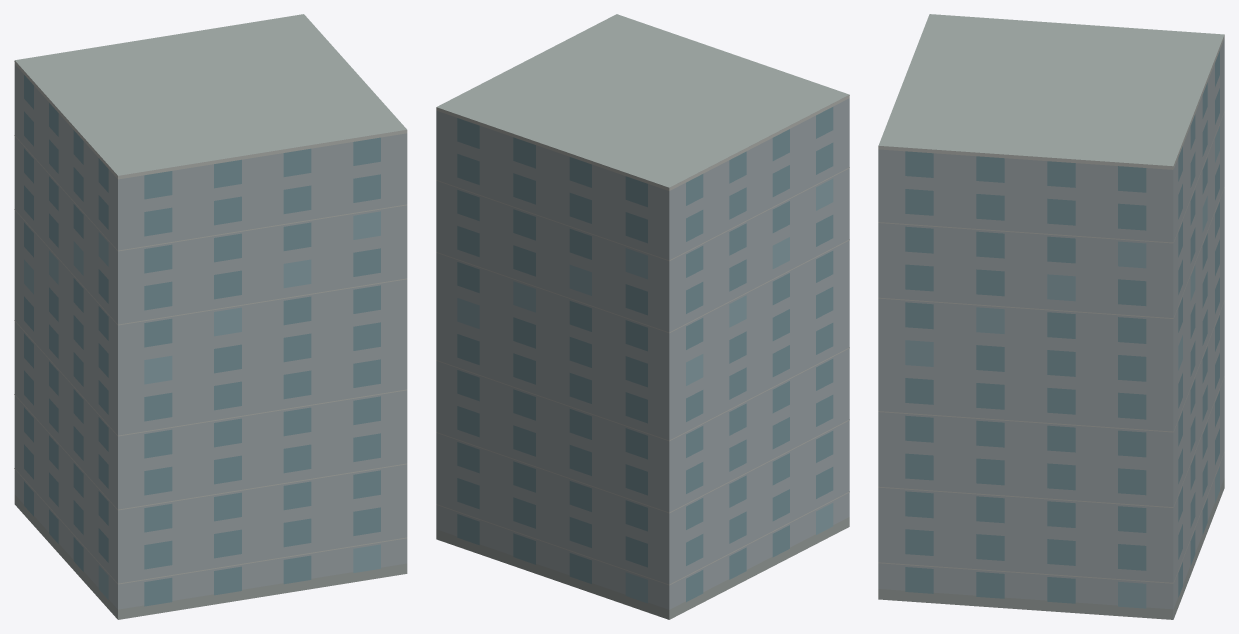
The model's file is residential-c54c0e22-a29d-4855-98bc-18e07170635c.glb.
The picture shows the model from 3 angles, left to right: view 1: azimuth 30°, elevation 25°; view 2: azimuth 150°, elevation 25°; view 3: azimuth 270°, elevation 25°; orthographic projection. The views are drawn at different scales.
Parts seen in each view (by area): view 1: residential-c54c0e22-a29d-4855-98bc-18e07170635c.tmp; view 2: residential-c54c0e22-a29d-4855-98bc-18e07170635c.tmp; view 3: residential-c54c0e22-a29d-4855-98bc-18e07170635c.tmp.
Boxes of the visible parts, bbox=[...] form: residential-c54c0e22-a29d-4855-98bc-18e07170635c.tmp: bbox=[14, 14, 407, 619]; residential-c54c0e22-a29d-4855-98bc-18e07170635c.tmp: bbox=[436, 14, 849, 619]; residential-c54c0e22-a29d-4855-98bc-18e07170635c.tmp: bbox=[878, 14, 1224, 619].
Bounding box in the file's own units: 21.61 × 30 × 20.77.
